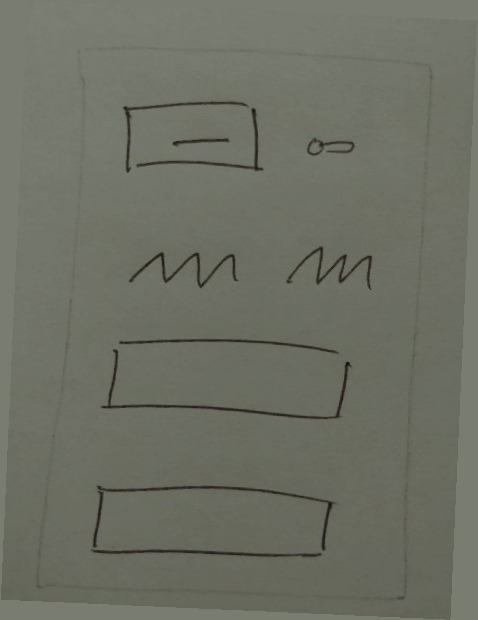button: (107, 92, 278, 180)
switch: (293, 126, 364, 167)
text: (119, 235, 249, 302), (272, 234, 381, 299)
text_input: (79, 461, 346, 579), (93, 325, 362, 433)
